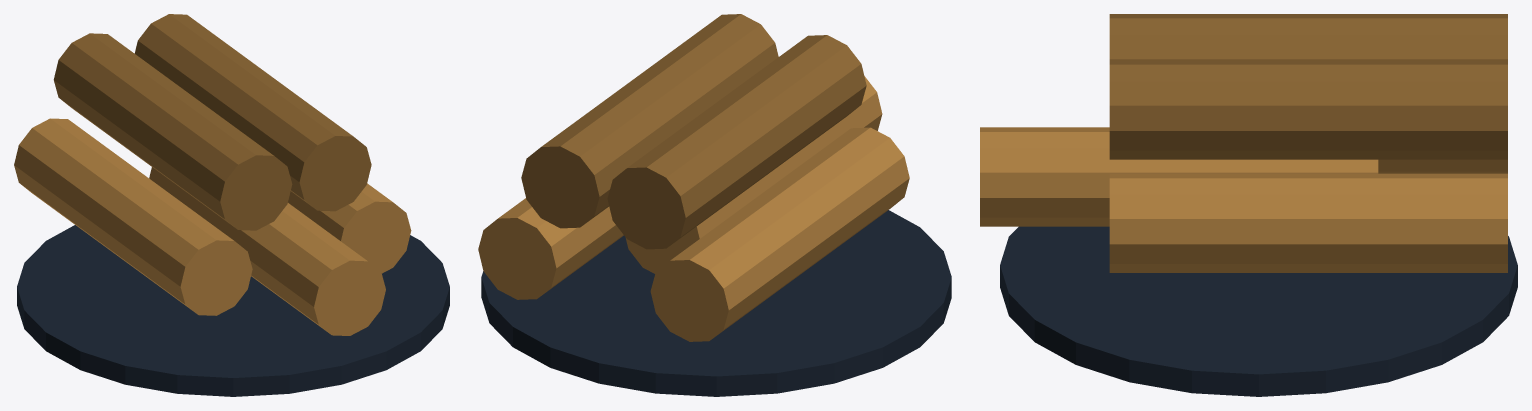
The model's file is goods_timber.glb.
3 views of the same model, side by side, from view 1: azimuth 30°, elevation 25°; view 2: azimuth 150°, elevation 25°; view 3: azimuth 270°, elevation 25° (orthographic). The views are drawn at different scales.
Visible parts, largest first — view 1: pad.003, log, log.003, log.004, log.002, log.001; view 2: pad.003, log, log.003, log.004, log.001, log.002; view 3: pad.003, log.004, log.001, log.003, log.002, log.
Boxes of the visible parts, left/top/right/bottom form: pad.003: left=17, top=225, right=449, bottom=396; log: left=14, top=118, right=252, bottom=315; log.003: left=53, top=33, right=292, bottom=230; log.004: left=134, top=14, right=371, bottom=211; log.002: left=149, top=167, right=385, bottom=335; log.001: left=288, top=183, right=411, bottom=273; pad.003: left=481, top=210, right=951, bottom=396; log: left=650, top=127, right=909, bottom=341; log.003: left=607, top=35, right=866, bottom=249; log.004: left=521, top=14, right=778, bottom=228; log.001: left=478, top=198, right=623, bottom=299; log.002: left=626, top=76, right=882, bottom=273; pad.003: left=1000, top=226, right=1517, bottom=396; log.004: left=1109, top=60, right=1507, bottom=159; log.001: left=1109, top=173, right=1507, bottom=272; log.003: left=1109, top=14, right=1507, bottom=60; log.002: left=980, top=127, right=1378, bottom=226; log: left=1378, top=159, right=1507, bottom=173.
Size of the model in its own units: 5.2 by 2.72 by 5.4.
